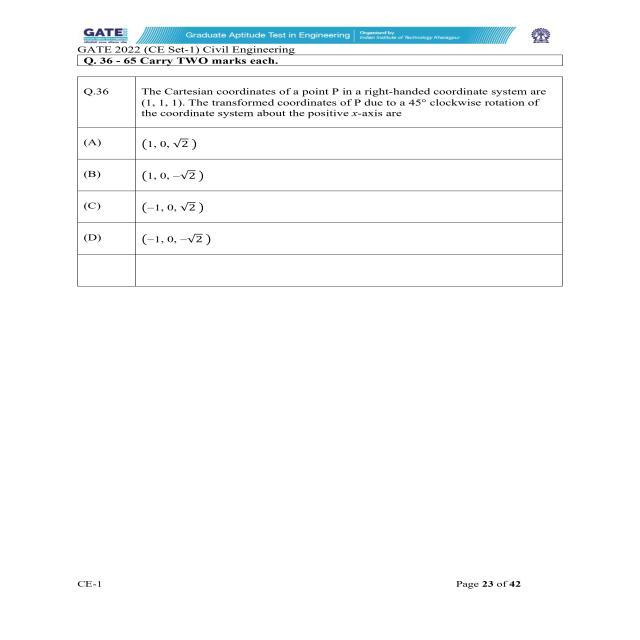Answer_Block: (47, 130, 595, 300)
Question_Answer_Block: (53, 70, 595, 298)
Question_Block: (52, 70, 600, 128)
Question_Paper_Area: (47, 69, 597, 359)
